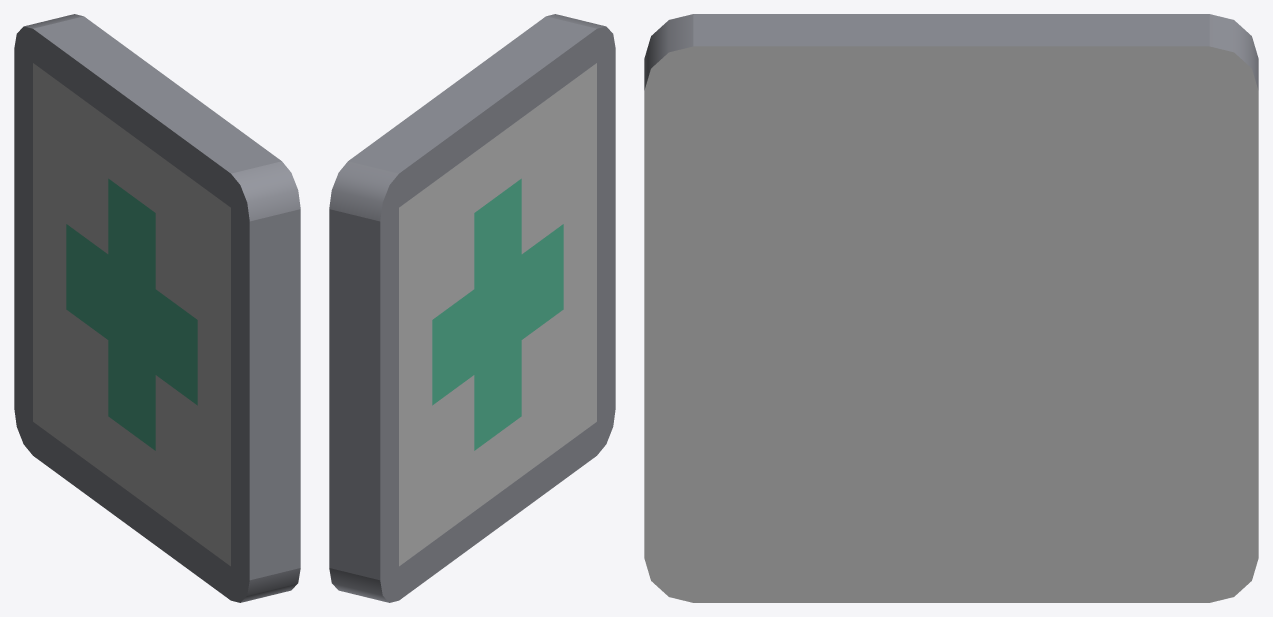
File: sign_hospital.fbx
3 renders of one model, left to right at view 1: azimuth 30°, elevation 25°; view 2: azimuth 150°, elevation 25°; view 3: azimuth 270°, elevation 25°, orthographic. The views are drawn at different scales.
Parts seen in each view (by area): view 1: sign_hospital; view 2: sign_hospital; view 3: sign_hospital.
Boxes of the visible parts, x1,y1,x2,y2 form: sign_hospital: (14,14,300,602); sign_hospital: (329,14,615,602); sign_hospital: (644,14,1258,602).
Size of the model in its own units: 0.5 by 4 by 4.
